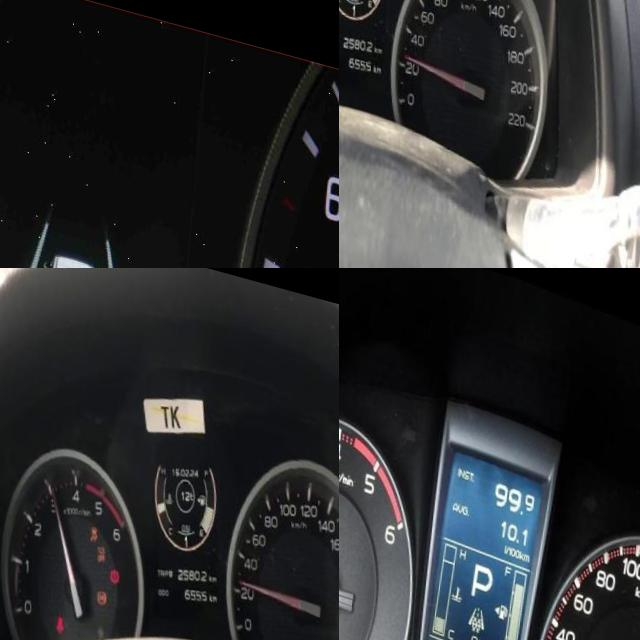Seat Belt: (61, 603, 71, 625)
